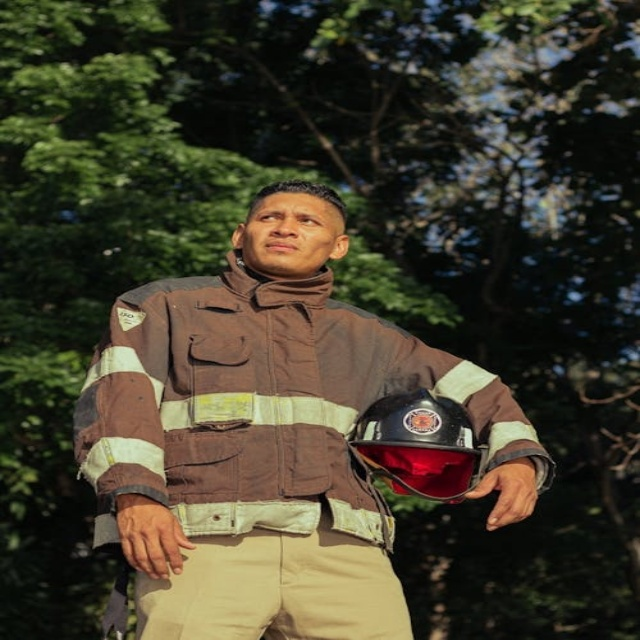Sin_gafas: (259, 208, 328, 229)
Sin_guantes: (109, 493, 204, 580), (460, 458, 549, 535)
Sin_mascara: (259, 236, 308, 259)
